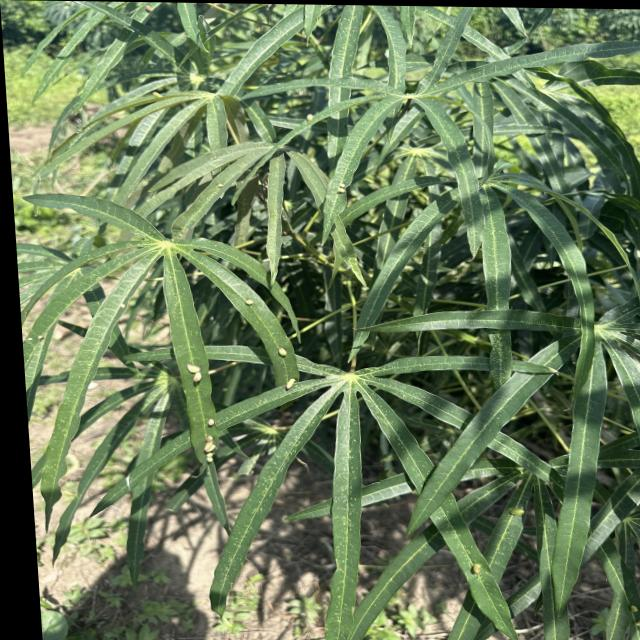Mosca: (197, 417, 232, 474), (508, 496, 547, 531), (459, 555, 497, 588), (178, 355, 209, 392), (22, 318, 60, 345), (298, 100, 325, 137), (268, 329, 299, 359), (233, 280, 266, 308), (133, 82, 172, 104), (275, 372, 308, 394), (209, 177, 237, 198), (329, 176, 350, 198)
